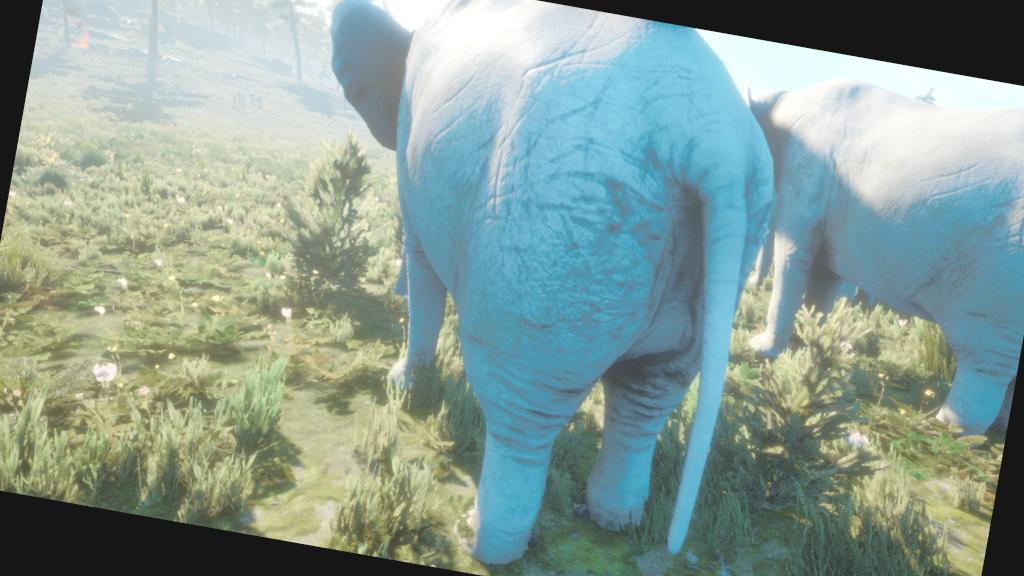elephant: (228, 0, 810, 575), (681, 52, 1023, 452)
